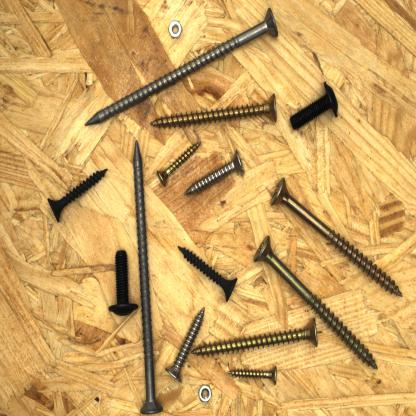screw: (81, 3, 282, 129), (251, 230, 384, 373), (265, 174, 408, 299), (131, 134, 166, 416), (192, 313, 323, 365), (148, 89, 282, 129), (176, 241, 242, 306), (43, 163, 110, 227), (182, 146, 249, 200), (163, 305, 207, 385), (286, 75, 342, 135), (104, 247, 142, 320), (154, 138, 204, 190), (225, 362, 283, 387)
